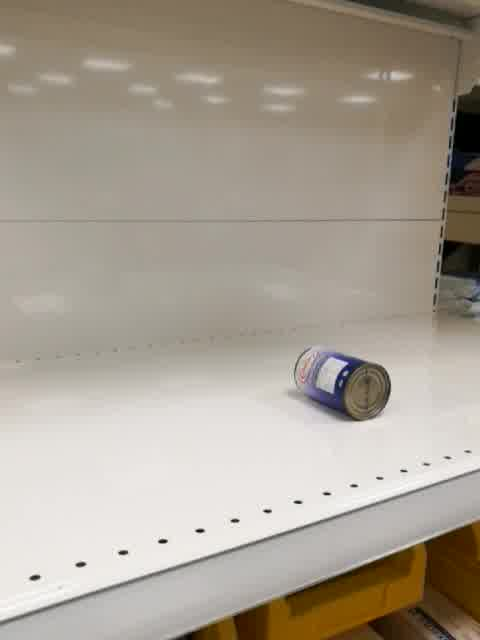sardine: (292, 344, 392, 423)
